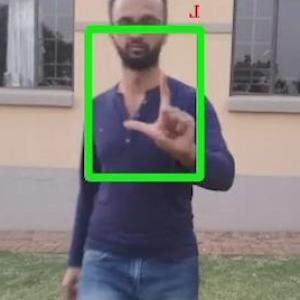land_hand: (121, 59, 204, 159)
